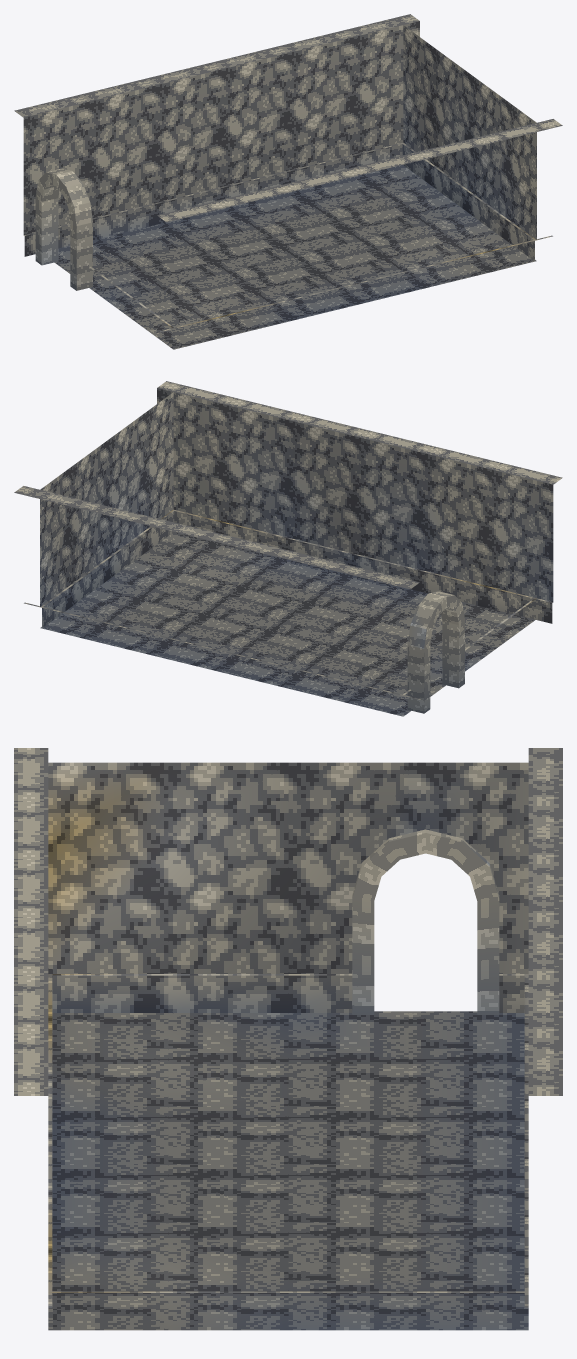
Rendered from cst.hall__dungeon.glb.
3 renders of one model, top to bottom at view 1: azimuth 30°, elevation 25°; view 2: azimuth 150°, elevation 25°; view 3: azimuth 270°, elevation 25°, orthographic. The views are drawn at different scales.
Visible parts, largest first — view 1: kit_shell_walls, kit_shell_floor, kit_fittings; view 2: kit_shell_walls, kit_shell_floor, kit_fittings; view 3: kit_shell_floor, kit_shell_walls, kit_fittings.
Part boxes in pixels (box(x1,y1,x2,y2)): kit_shell_walls: box(14, 14, 562, 332); kit_shell_floor: box(54, 165, 536, 349); kit_fittings: box(35, 168, 92, 290); kit_shell_walls: box(14, 381, 562, 699); kit_shell_floor: box(40, 532, 535, 716); kit_fittings: box(407, 591, 464, 713); kit_shell_floor: box(48, 1011, 528, 1330); kit_shell_walls: box(14, 748, 562, 1307); kit_fittings: box(352, 829, 499, 1014).
Size of the model in its own units: 12 by 4 by 8.
Materials: 4 (4 with a texture image).
